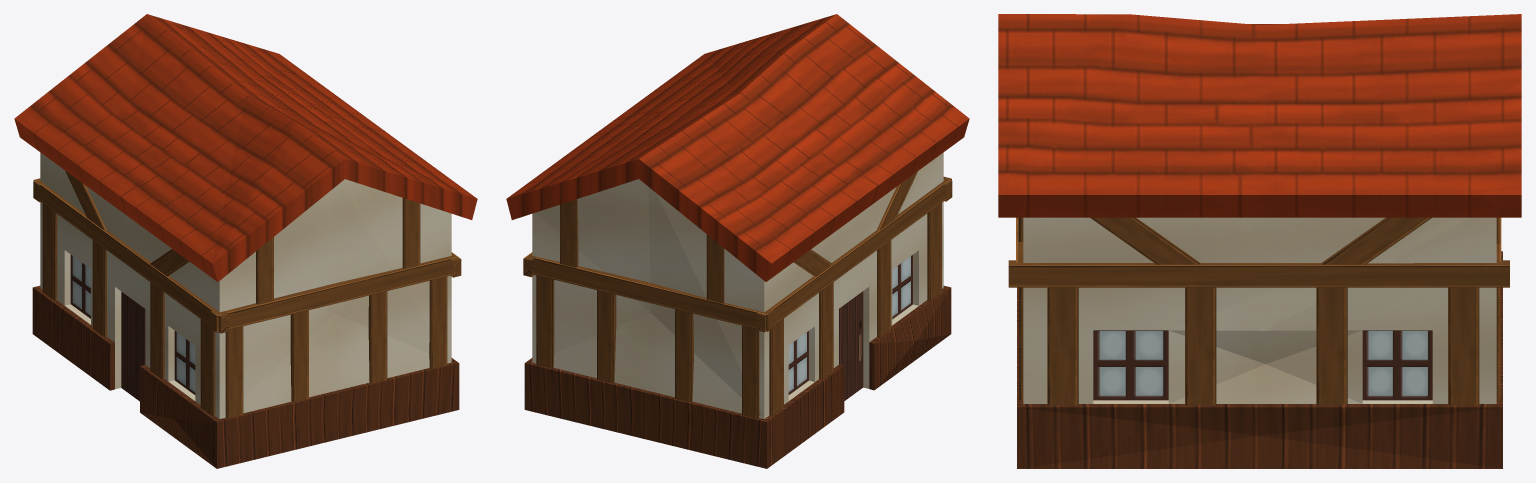
Rendered from co_Building02.fbx.
3 renders of one model, left to right at view 1: azimuth 30°, elevation 25°; view 2: azimuth 150°, elevation 25°; view 3: azimuth 270°, elevation 25°, orthographic. The views are drawn at different scales.
Visible parts, largest first — view 1: Building02; view 2: Building02; view 3: Building02.
Part boxes in pixels (bbox=[...]): Building02: bbox=[14, 14, 477, 468]; Building02: bbox=[506, 14, 969, 468]; Building02: bbox=[998, 14, 1521, 468].
Size of the model in its own units: 2298 by 2364 by 2973.
